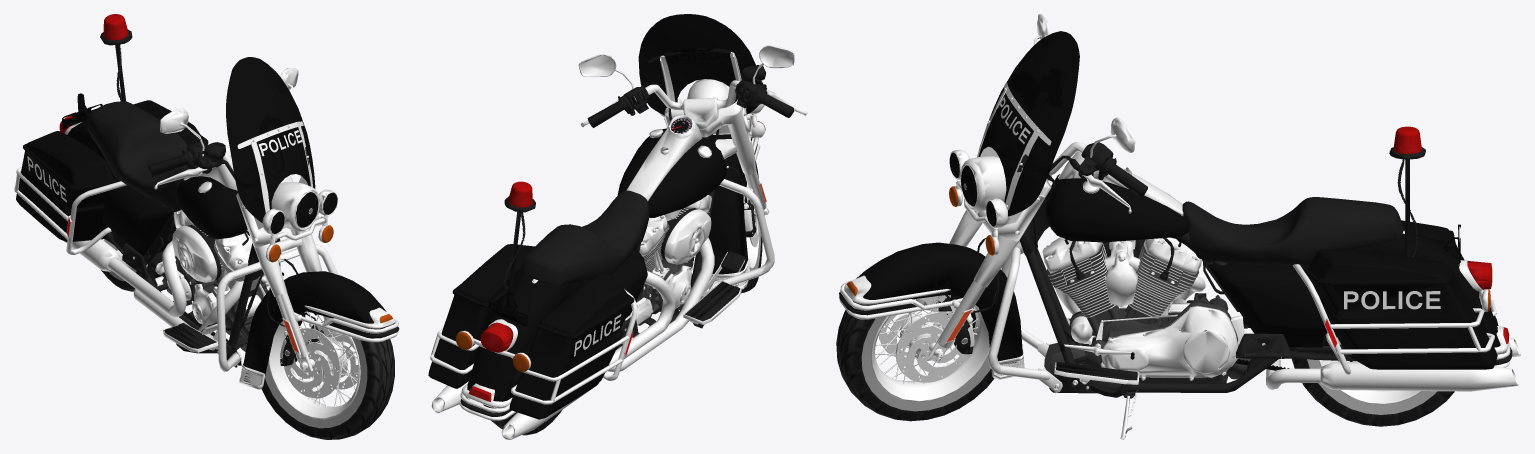
Rendered from moto-police.glb.
3 renders of one model, left to right at view 1: azimuth 30°, elevation 25°; view 2: azimuth 150°, elevation 25°; view 3: azimuth 270°, elevation 25°, orthographic. The views are drawn at different scales.
Parts seen in each view (by area): view 1: Moto_chrome, Moto_main_color, Moto_white_glass, Moto_seat, Wheel_F_chrome, Moto_rubber, Wheel_F_tyre, Moto_frame, Wheel_F_side_wall, Moto_engive_block, Moto_red_glass, Moto_police (+2 smaller); view 2: Moto_main_color, Moto_chrome, Moto_seat, Moto_white_glass, Moto_rubber, Moto_red_glass, Moto_engive_block, Moto_frame, Moto_Material_1, Moto_orange_glass, Wheel_F_chrome; view 3: Moto_chrome, Moto_main_color, Moto_white_glass, Moto_seat, Moto_engive_block, Wheel_F_chrome, Moto_rubber, Moto_frame, Wheel_F_tyre, Wheel_R_tyre, Wheel_F_side_wall, Wheel_R_side_wall (+3 smaller).
Boxes of the visible parts, box(x1,y1,x2,y2) form: Moto_chrome: box(14, 68, 398, 389); Moto_main_color: box(16, 100, 386, 382); Moto_white_glass: box(226, 57, 337, 233); Moto_seat: box(87, 101, 198, 209); Wheel_F_chrome: box(268, 311, 360, 419); Moto_rubber: box(100, 29, 399, 365); Wheel_F_tyre: box(261, 327, 394, 439); Moto_frame: box(104, 204, 280, 367); Wheel_F_side_wall: box(265, 337, 367, 428); Moto_engive_block: box(160, 226, 268, 351); Moto_red_glass: box(59, 14, 128, 133); Moto_police: box(27, 130, 302, 202); Moto_main_color: box(428, 128, 752, 419); Moto_chrome: box(430, 45, 807, 439); Moto_seat: box(520, 190, 649, 286); Moto_white_glass: box(638, 14, 761, 115); Moto_rubber: box(460, 65, 794, 416); Moto_red_glass: box(468, 181, 532, 401); Moto_engive_block: box(636, 208, 709, 325); Moto_frame: box(616, 189, 715, 349); Moto_Material_1: box(488, 291, 528, 327); Moto_orange_glass: box(455, 121, 765, 371); Wheel_F_chrome: box(743, 195, 759, 269); Moto_chrome: box(839, 14, 1520, 439); Moto_main_color: box(856, 174, 1500, 369); Moto_white_glass: box(949, 31, 1079, 226); Moto_seat: box(1182, 197, 1403, 265); Moto_engive_block: box(1044, 243, 1250, 381); Wheel_F_chrome: box(871, 295, 989, 401); Moto_rubber: box(839, 142, 1512, 380); Moto_frame: box(1026, 246, 1356, 398); Wheel_F_tyre: box(836, 300, 994, 421); Wheel_R_tyre: box(1291, 357, 1454, 426); Wheel_F_side_wall: box(861, 316, 990, 411); Wheel_R_side_wall: box(1307, 359, 1436, 414).
Bounding box in the file's own units: 0.9092 × 1.47 × 2.44.
Materials: 25 (4 with a texture image).
